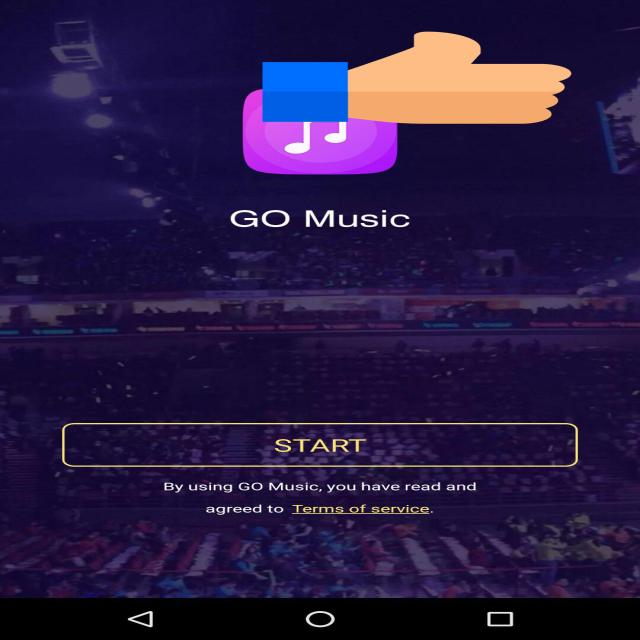privacy zuckering: (263, 29, 571, 126)
